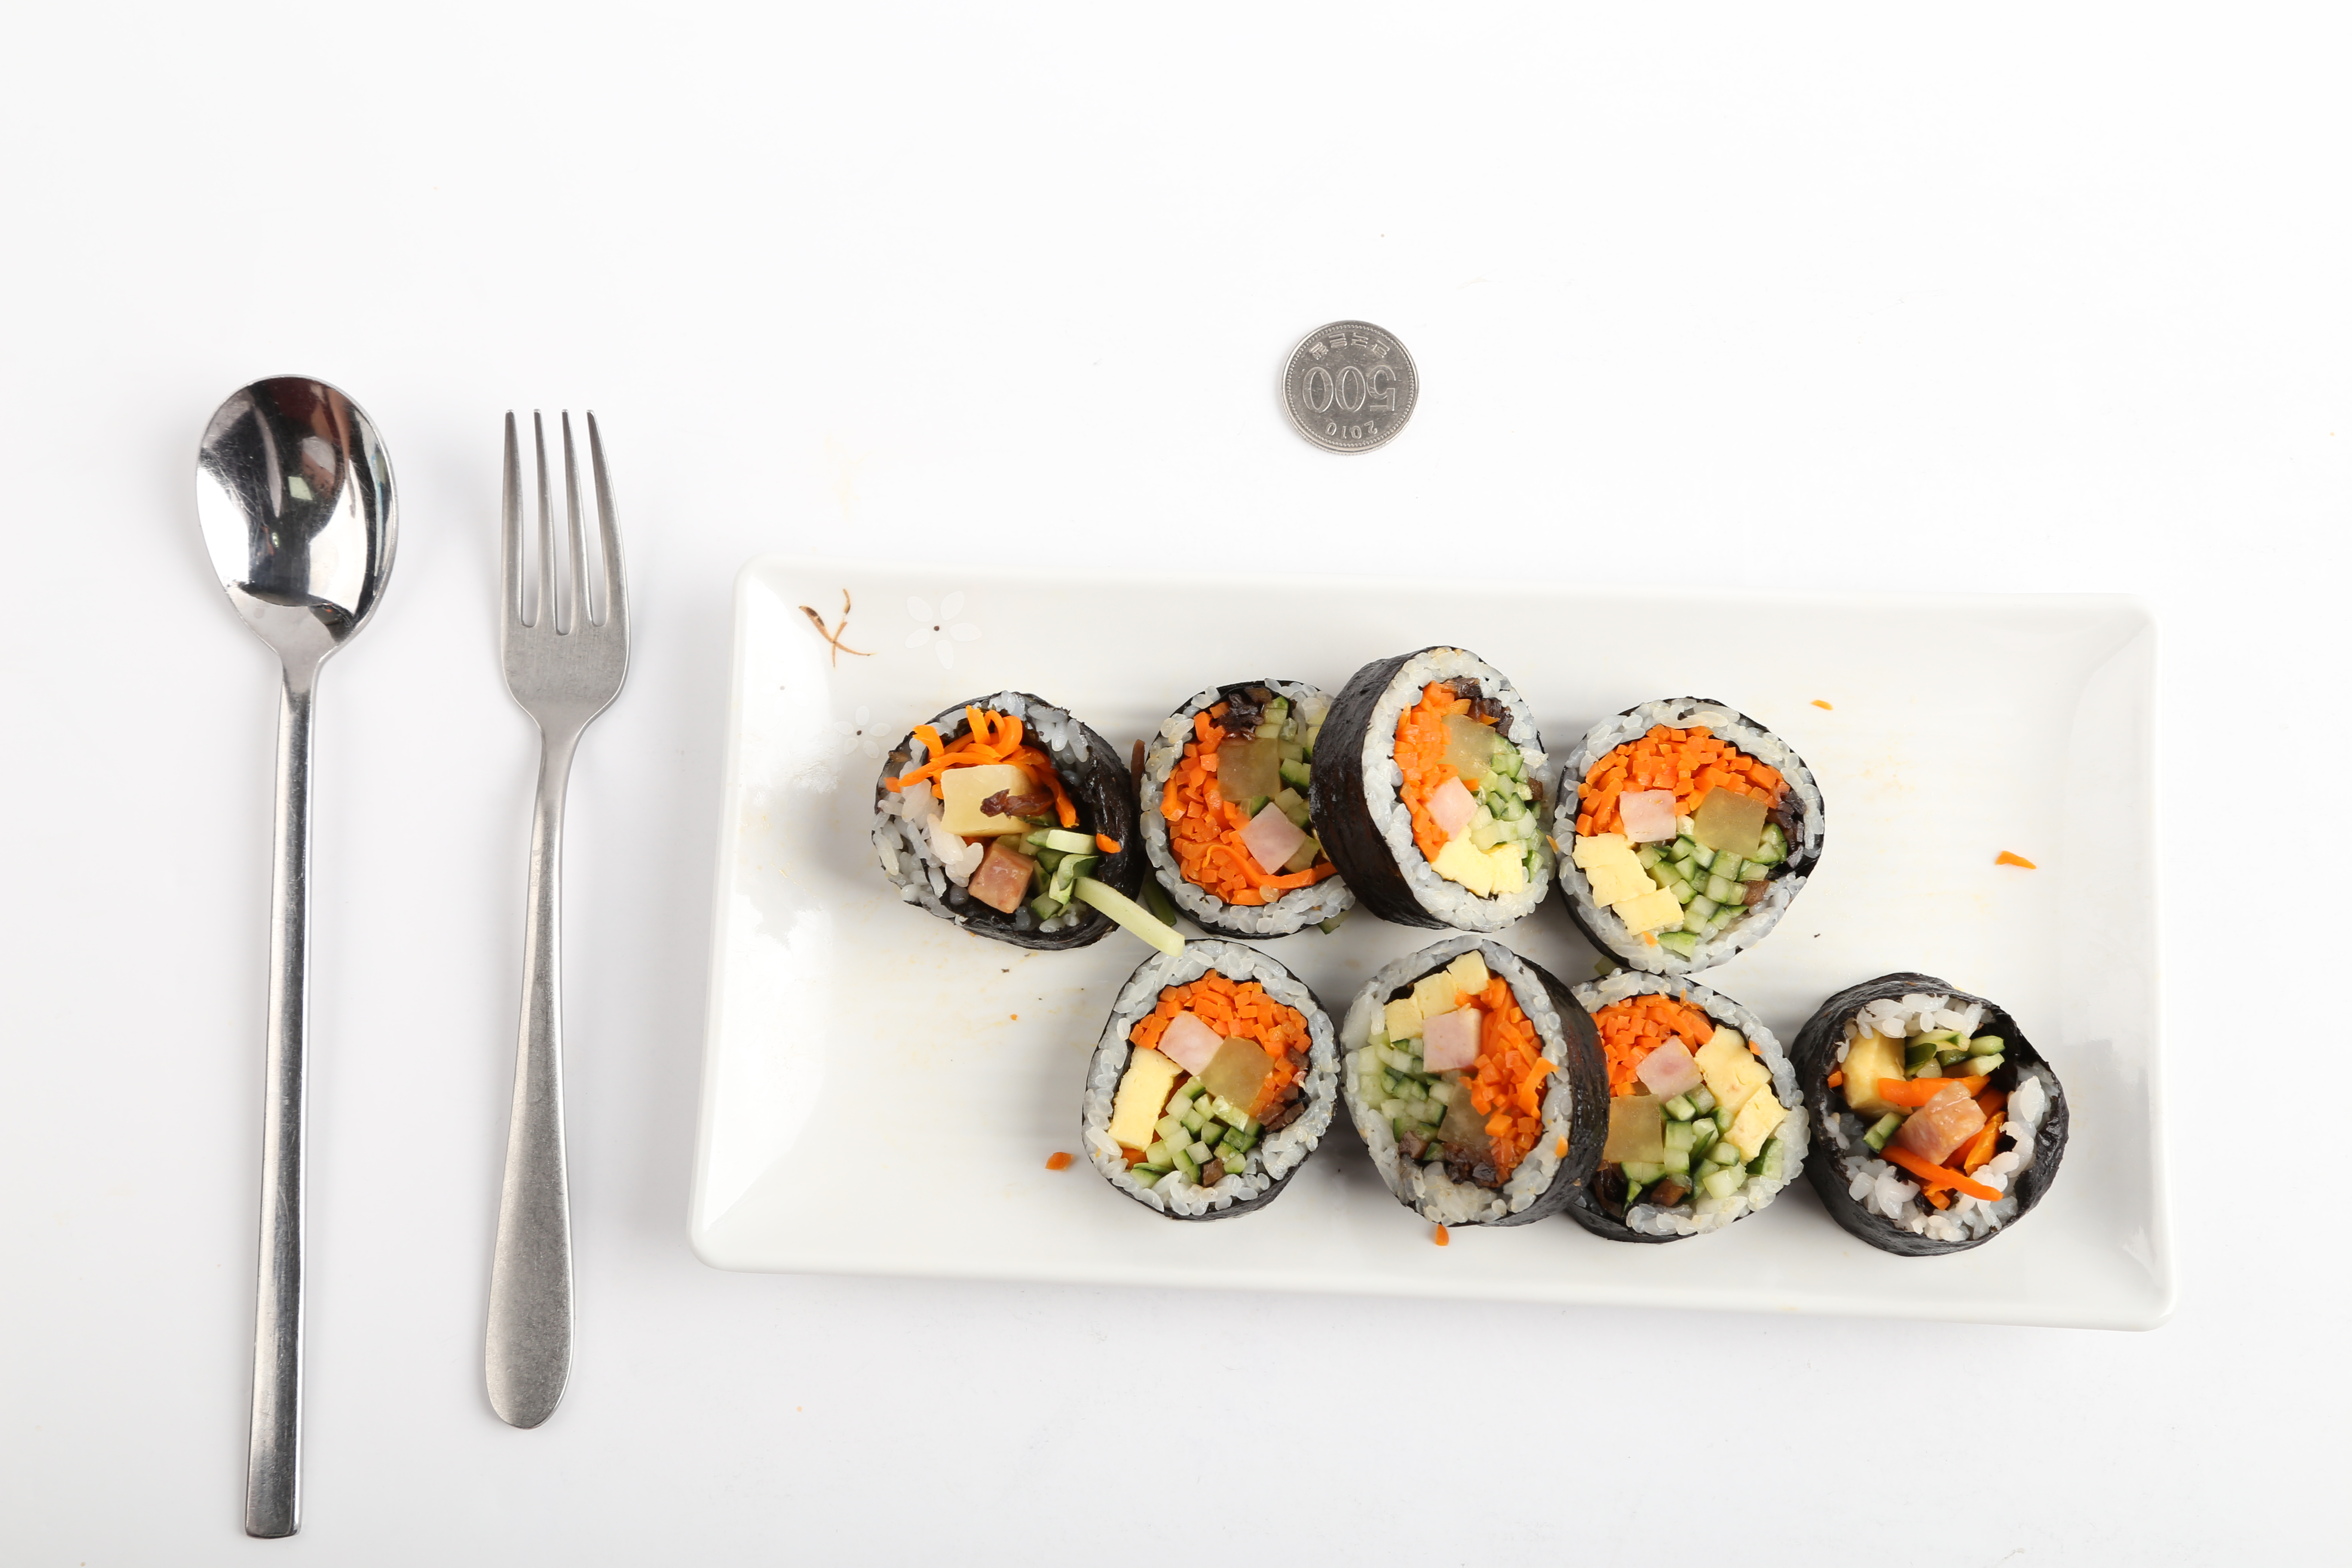dish: (689, 551, 2175, 1325)
ref_coin: (1276, 317, 1424, 457)
ref_fork: (497, 397, 635, 768)
ref_spoon: (189, 371, 401, 724)
김밥: (868, 644, 2065, 1258)
